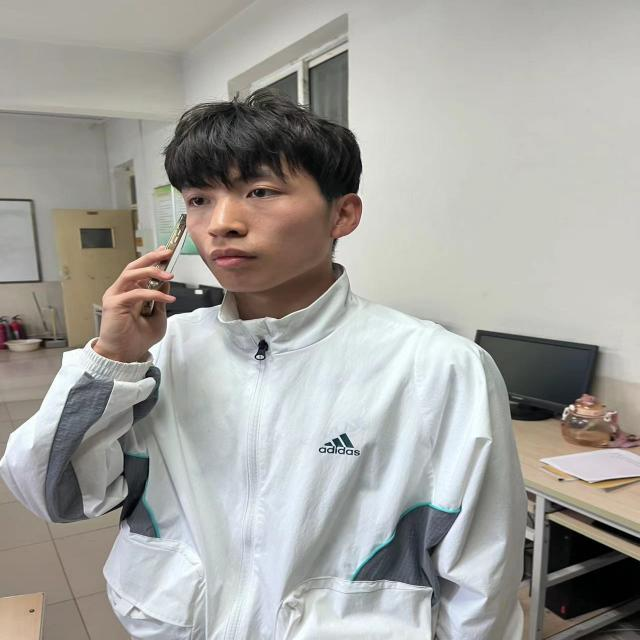phone: (140, 212, 190, 318)
